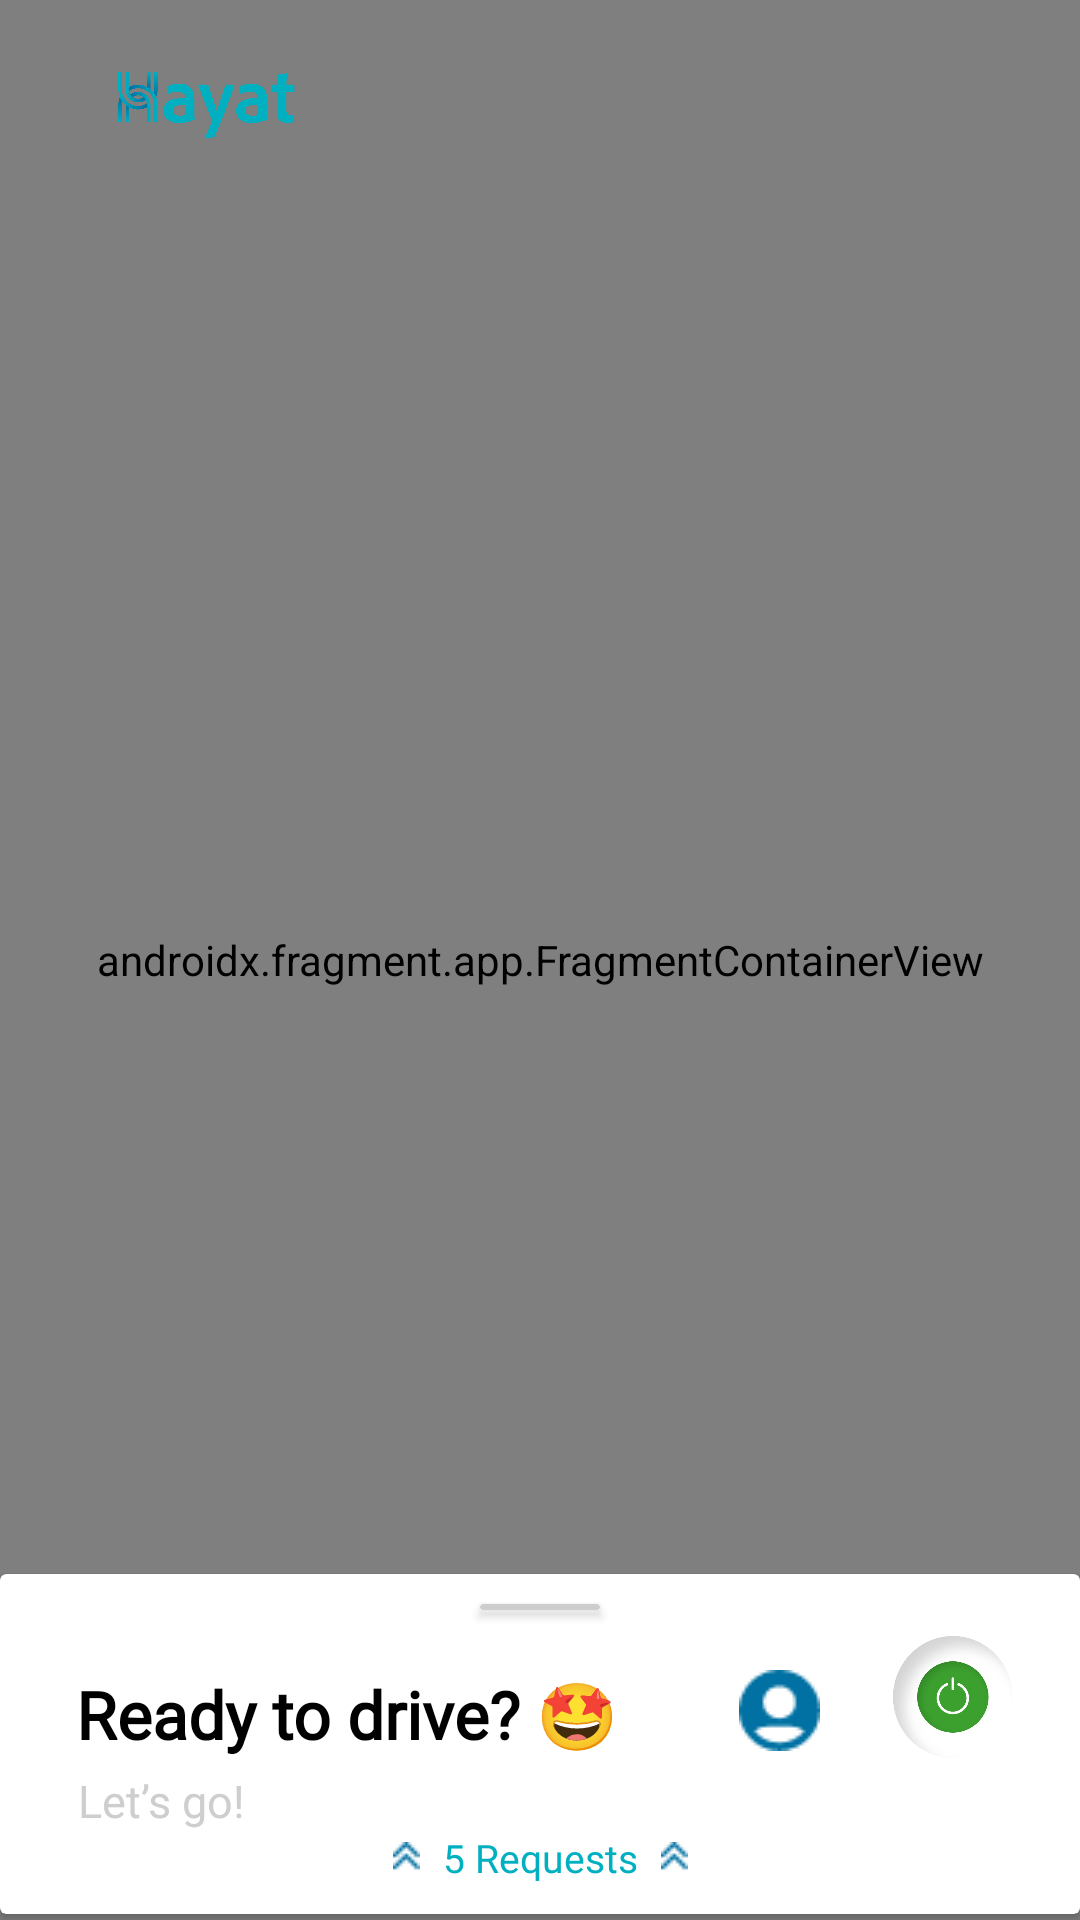

Icon click points for this 1080px x 1920px phone screenshot, format (x,y):
user: (779,1710)
